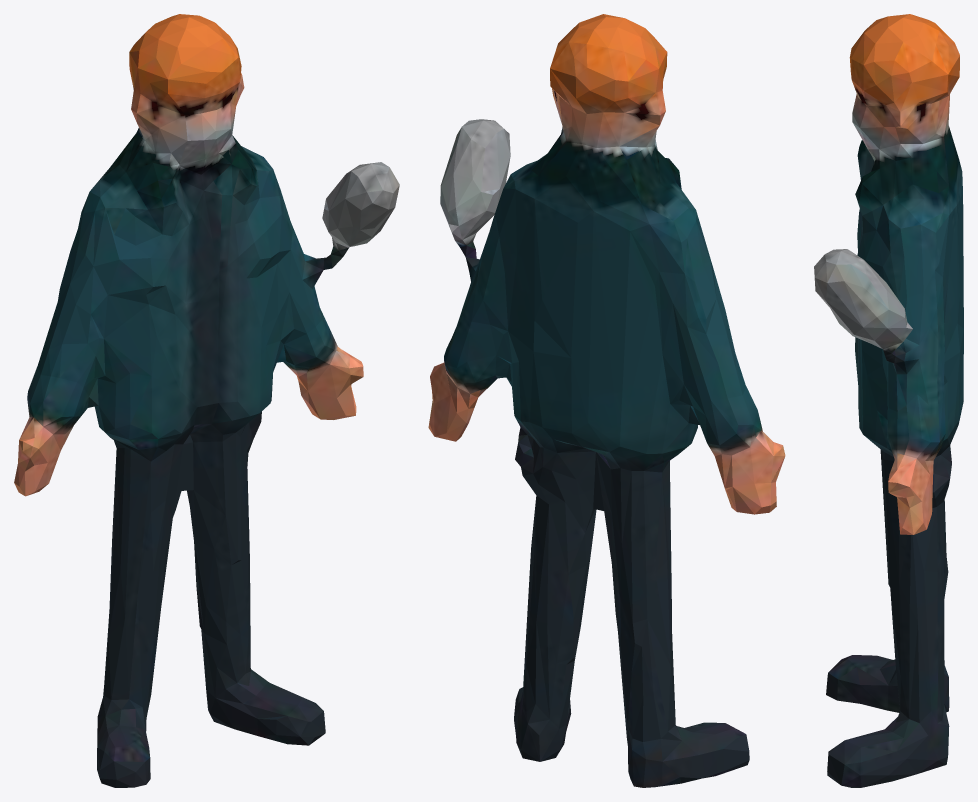
The model's file is habitant-loin.glb.
The picture shows the model from 3 angles, left to right: view 1: azimuth 30°, elevation 25°; view 2: azimuth 150°, elevation 25°; view 3: azimuth 270°, elevation 25°; orthographic projection. The views are drawn at different scales.
Visible parts, largest first — view 1: habitant; view 2: habitant; view 3: habitant.
Boxes of the visible parts, x1,y1,x2,y2 form: habitant: [14, 14, 399, 787]; habitant: [428, 14, 785, 787]; habitant: [814, 14, 963, 787].
Bounding box in the file's own units: 0.5036 × 1.01 × 0.19.
1 material, 1 textured.
